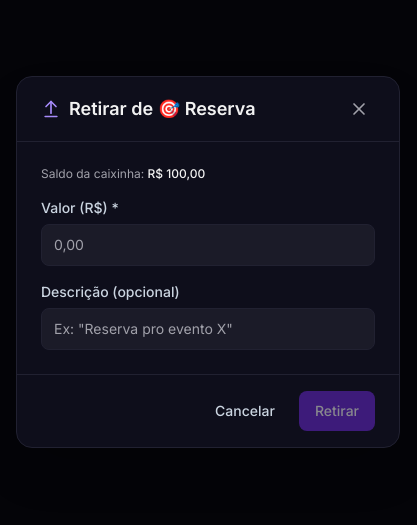
Scenario: OperacaoCaixinhaModal — retirada › retirada maior que o saldo oferece o máximo em vez de confirmar
Type "150" into the field with placeholder "0,00" at (208, 245), box [41, 224, 375, 266]
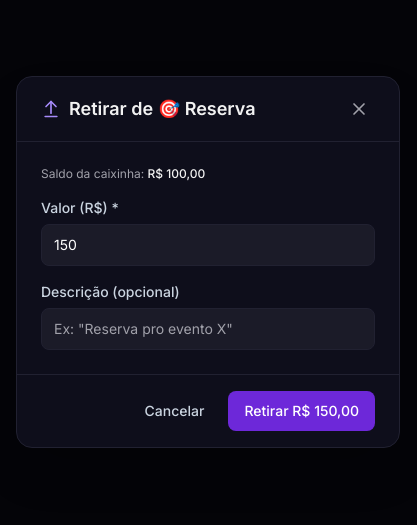
Click the button "Retirar R$ 150,00" at (302, 411), box [228, 391, 375, 431]
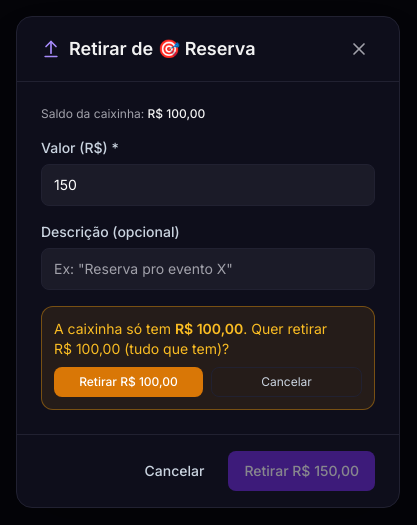
expect the text "A caixinha só tem" is shown: met, box [54, 320, 171, 337]
expect the button "Retirar R$ 100,00" is shown: met, box [54, 367, 203, 397]
